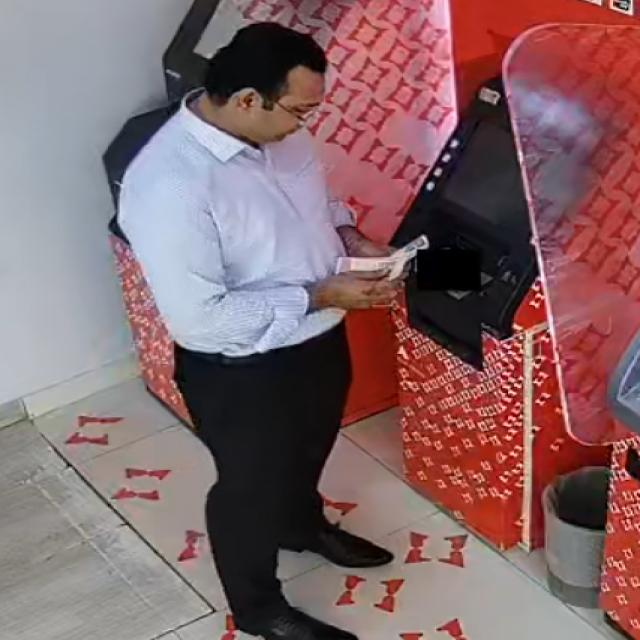note: (335, 232, 433, 279)
